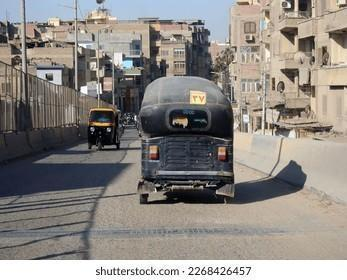keke: (137, 73, 239, 202), (88, 106, 120, 152)
